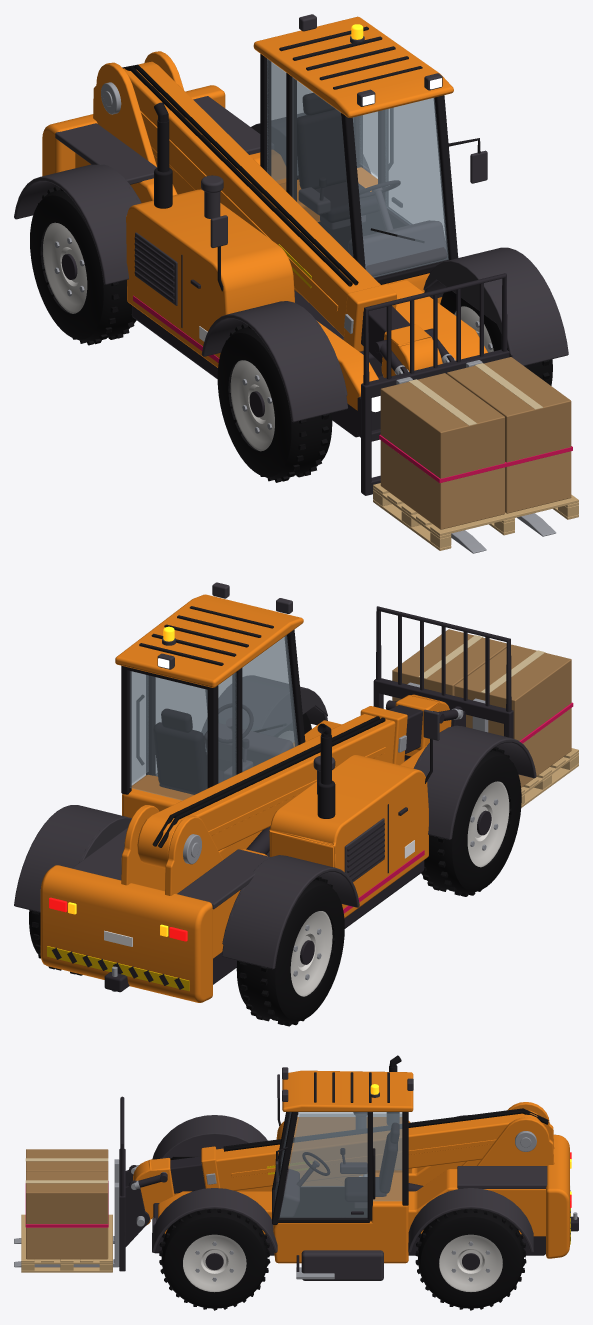
The model's file is tele.glb.
3 views of the same model, one above another, from view 1: azimuth 30°, elevation 25°; view 2: azimuth 150°, elevation 25°; view 3: azimuth 270°, elevation 25° (orthographic). The views are drawn at different scales.
Parts seen in each view (by area): view 1: wfl_mg, pal_top, boom_outer, car_lug, wfr, wrr, wfr_tr, wrr_tr, inner_sec, wfl; view 2: wfl_mg, pal_top, boom_outer, wrr, wfr, car_lug, wrr_tr, wfr_tr, inner_sec; view 3: wfl_mg, boom_outer, pal_top, wrl, wfl, wfl_tr, wrl_tr, car_lug, inner_sec.
Boxes of the visible parts, x1,y1,x2,y2 form: wfl_mg: (14, 14, 568, 437); pal_top: (373, 357, 578, 550); boom_outer: (122, 61, 396, 351); car_lug: (361, 273, 556, 553); wfr: (217, 327, 332, 478); wrr: (30, 189, 136, 341); wfr_tr: (225, 323, 329, 482); wrr_tr: (38, 186, 134, 345); inner_sec: (361, 305, 442, 377); wfl: (440, 291, 552, 385); wfl_mg: (14, 582, 536, 1002); pal_top: (392, 629, 578, 807); boom_outer: (137, 706, 407, 868); wrr: (236, 879, 344, 1022); wfr: (421, 750, 521, 893); car_lug: (373, 606, 513, 738); wrr_tr: (239, 876, 336, 1026); wfr_tr: (423, 747, 513, 896); inner_sec: (389, 694, 451, 756); wfl_mg: (150, 1055, 578, 1280); boom_outer: (201, 1108, 548, 1190); pal_top: (21, 1149, 112, 1272); wrl: (418, 1209, 523, 1308); wfl: (161, 1209, 267, 1308); wfl_tr: (159, 1209, 270, 1310); wrl_tr: (415, 1209, 526, 1310); car_lug: (14, 1096, 149, 1271); inner_sec: (133, 1156, 205, 1226).
Size of the model in its own units: 2.46 by 2.58 by 6.17.
